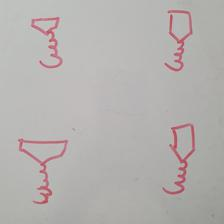protein-stability-element: (17, 138, 69, 206), (162, 123, 196, 195), (163, 9, 194, 73), (30, 18, 64, 68)
